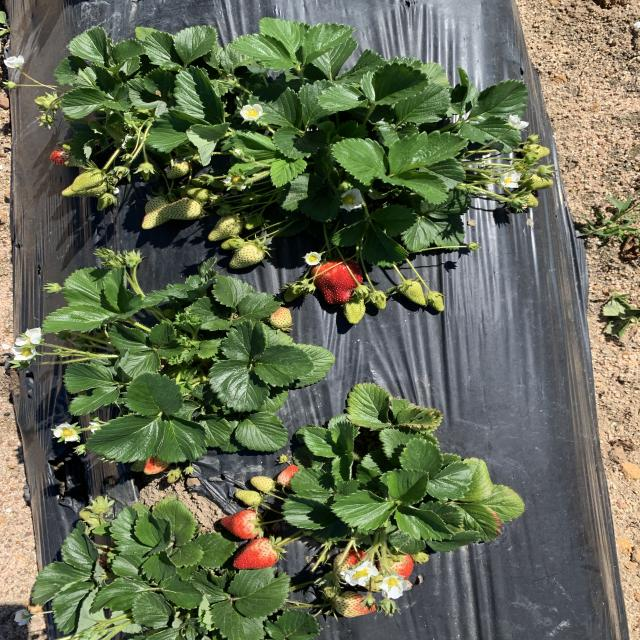unripe: (309, 253, 365, 304), (232, 540, 281, 570), (221, 508, 269, 538), (381, 550, 417, 590)
